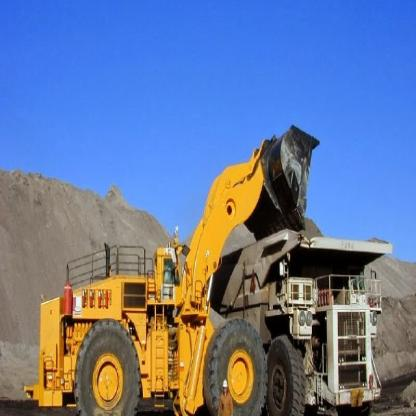bull_dozer/loader/grader: (32, 98, 321, 415)
